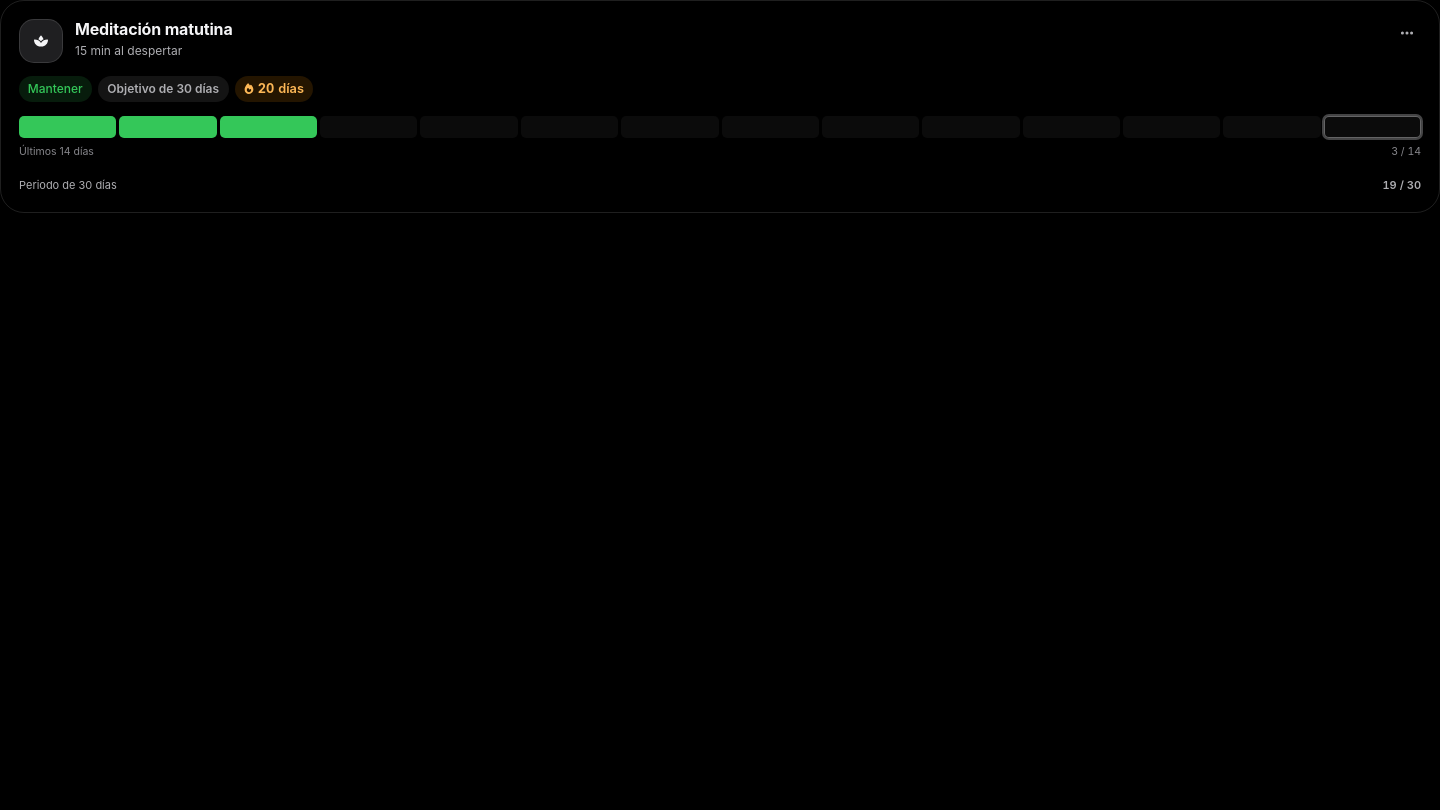
Test case: HabitListCard › conserva el menú de acciones
The image size is (1440, 810).
Click the button named "Más opciones de Meditación matutina" at [1407, 33], box [1393,19,1421,47]
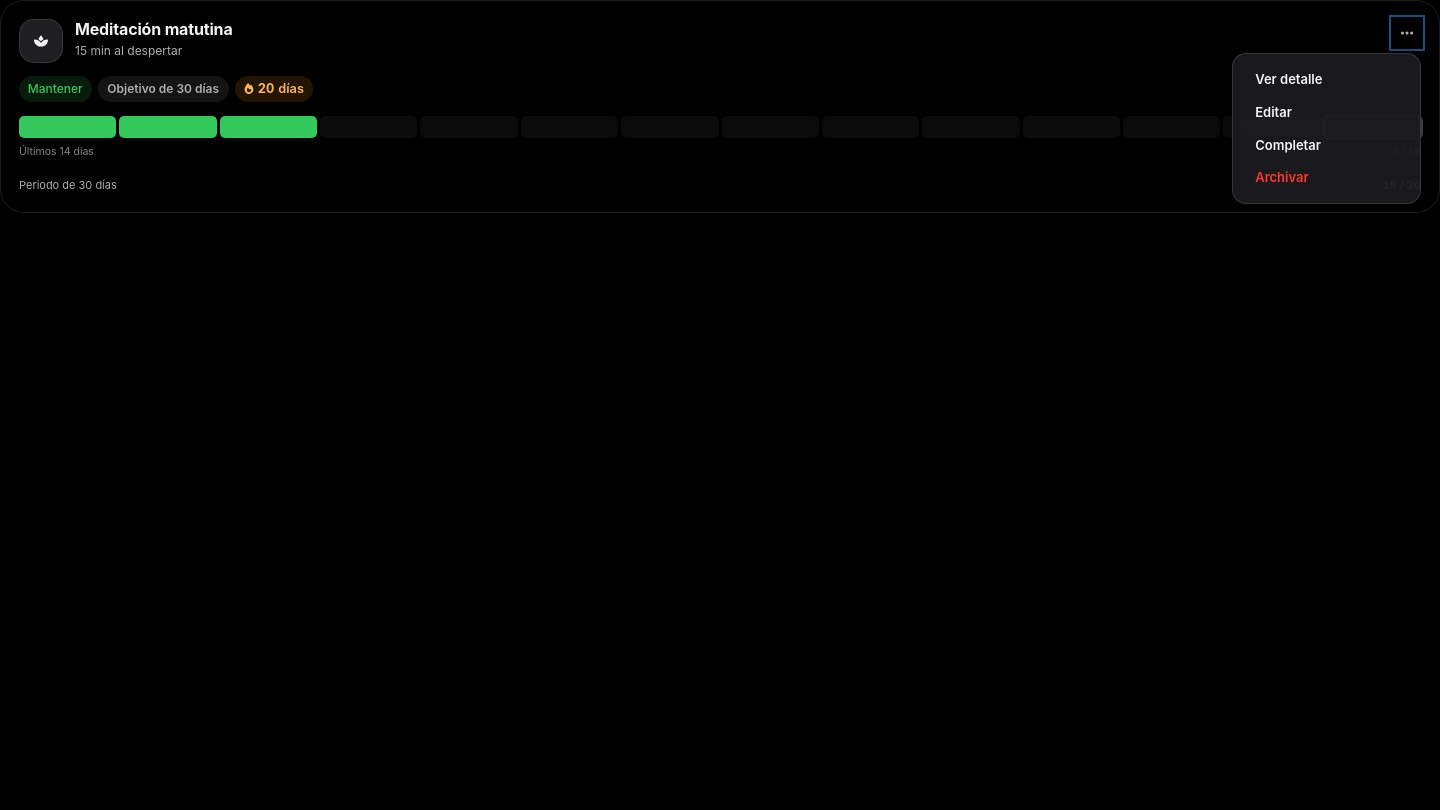
Check: the button "Ver detalle" is shown, box [1246,64,1406,94]
Check: the button "Editar" is shown, box [1246,97,1406,127]
Check: the button "Completar" is shown, box [1246,130,1406,160]
